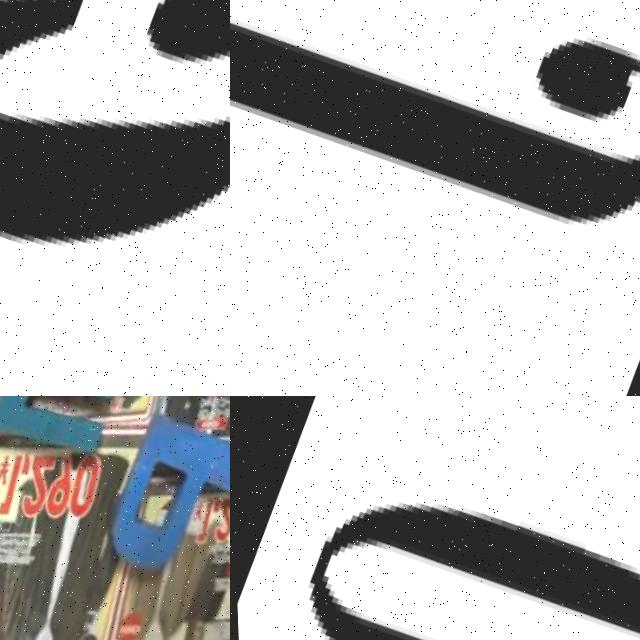5: (0, 0, 230, 396)
J: (230, 0, 640, 308)
M: (0, 396, 144, 477)
P: (94, 408, 230, 597)
Q: (259, 421, 640, 640)
